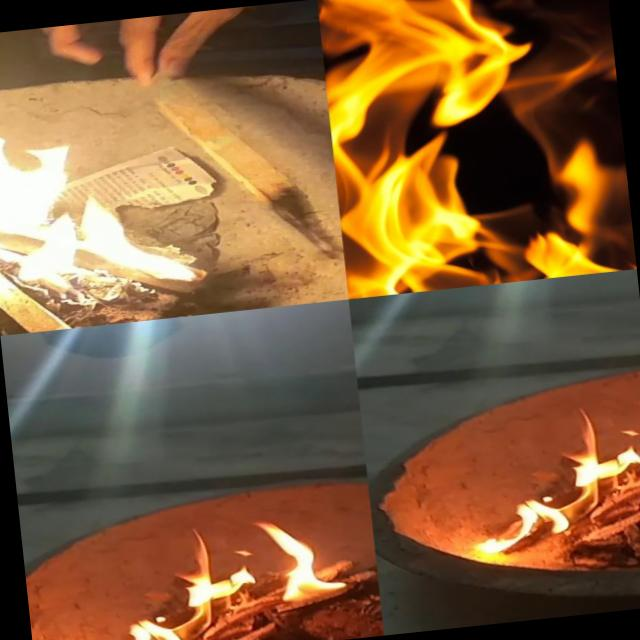fire: (317, 0, 636, 299), (0, 19, 150, 307), (258, 514, 358, 610), (173, 521, 256, 614), (460, 487, 567, 558), (559, 401, 640, 494), (73, 607, 179, 640)
